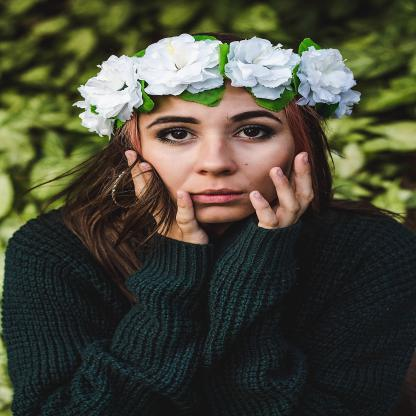Eye: (228, 123, 284, 147), (154, 123, 204, 149)
Mouth: (183, 184, 251, 209)
Nose: (193, 135, 241, 179)
